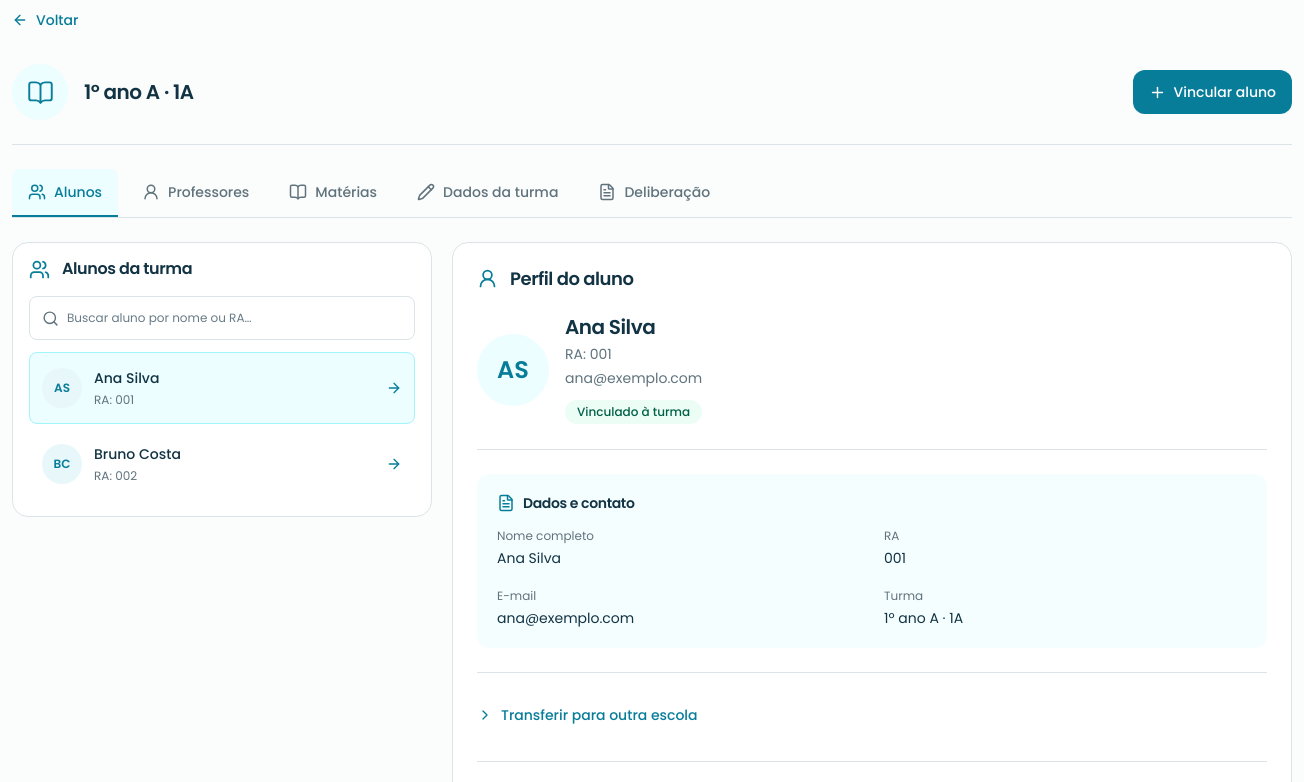
Test case: seleciona alunos, busca por RA e mantém professores e matérias em áreas próprias
The width and height of the screenshot is (1304, 782).
Click the button "BC Bruno Costa RA: 002" at (62, 464), box [29, 428, 415, 500]
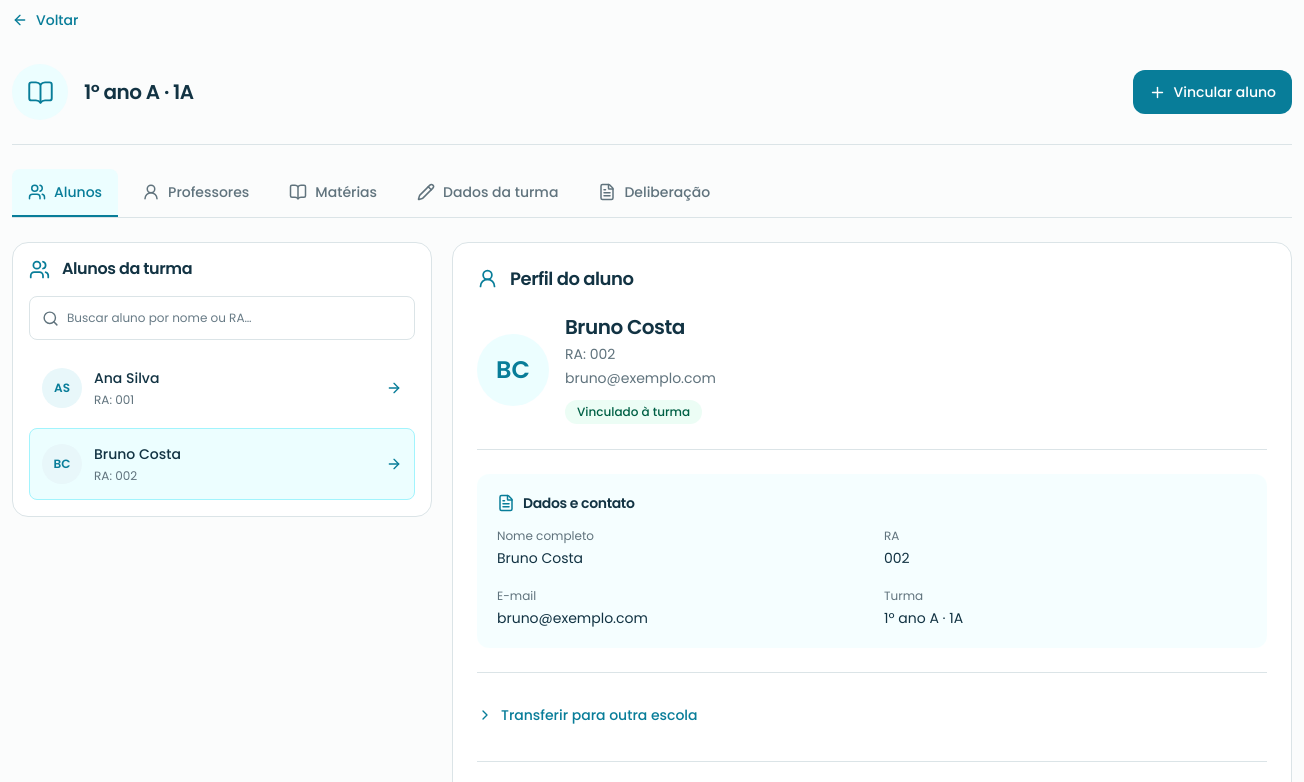
Type "001" into the search field at (234, 318), box [67, 310, 402, 326]
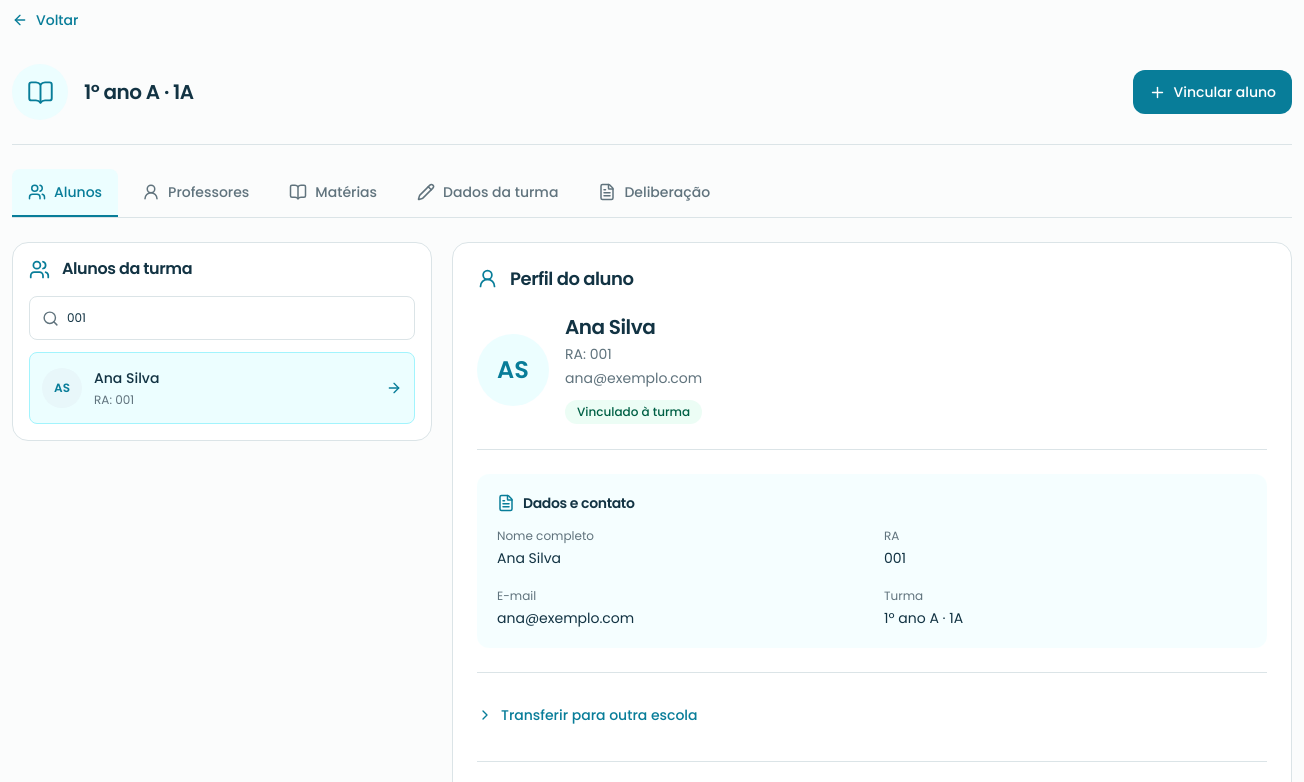
Click the button "Professores" at (196, 193), box [126, 169, 265, 217]
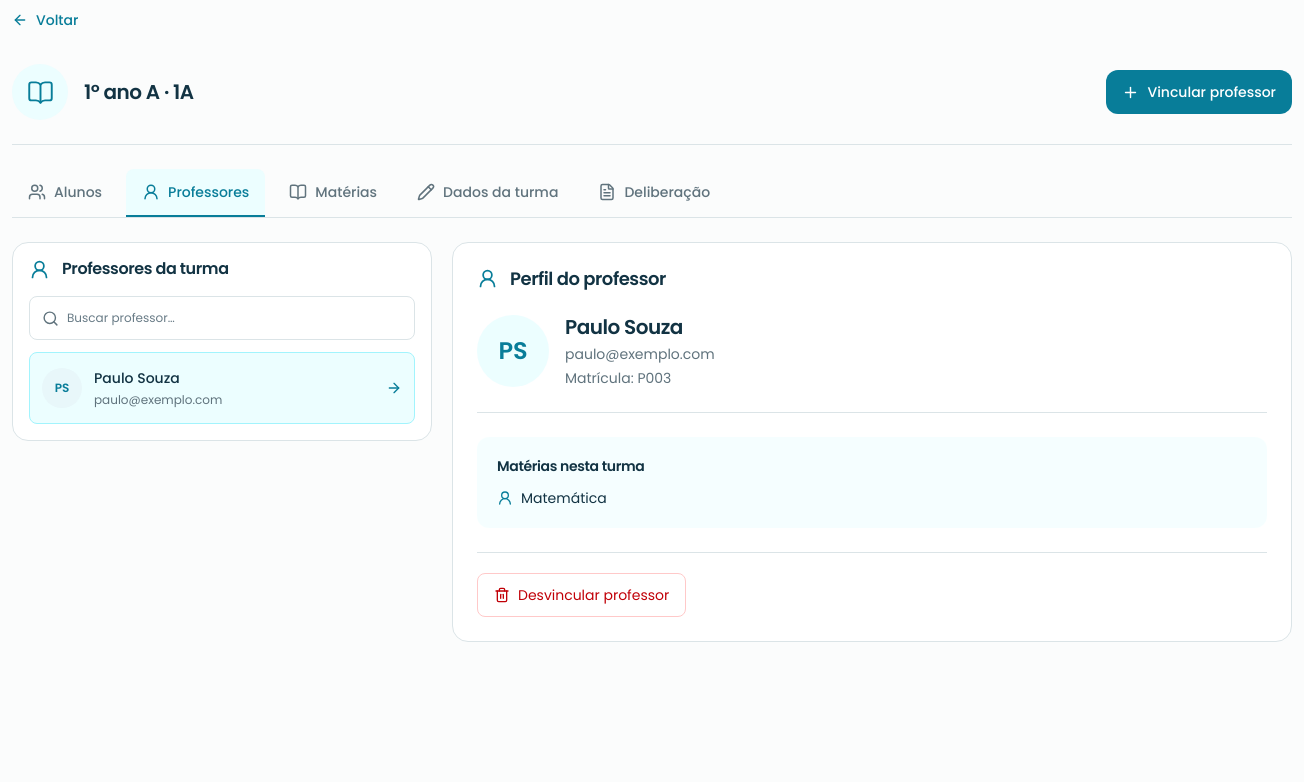
Expected: the element named "Perfil de Paulo Souza" is shown, [452, 242, 1292, 642]
Expected: the search field labelled "Buscar professor…" is shown, [67, 310, 402, 326]
Expected: the list item "Matemática" is shown, [497, 488, 607, 508]
Click the button "Matérias" at (333, 193), box [273, 169, 393, 217]
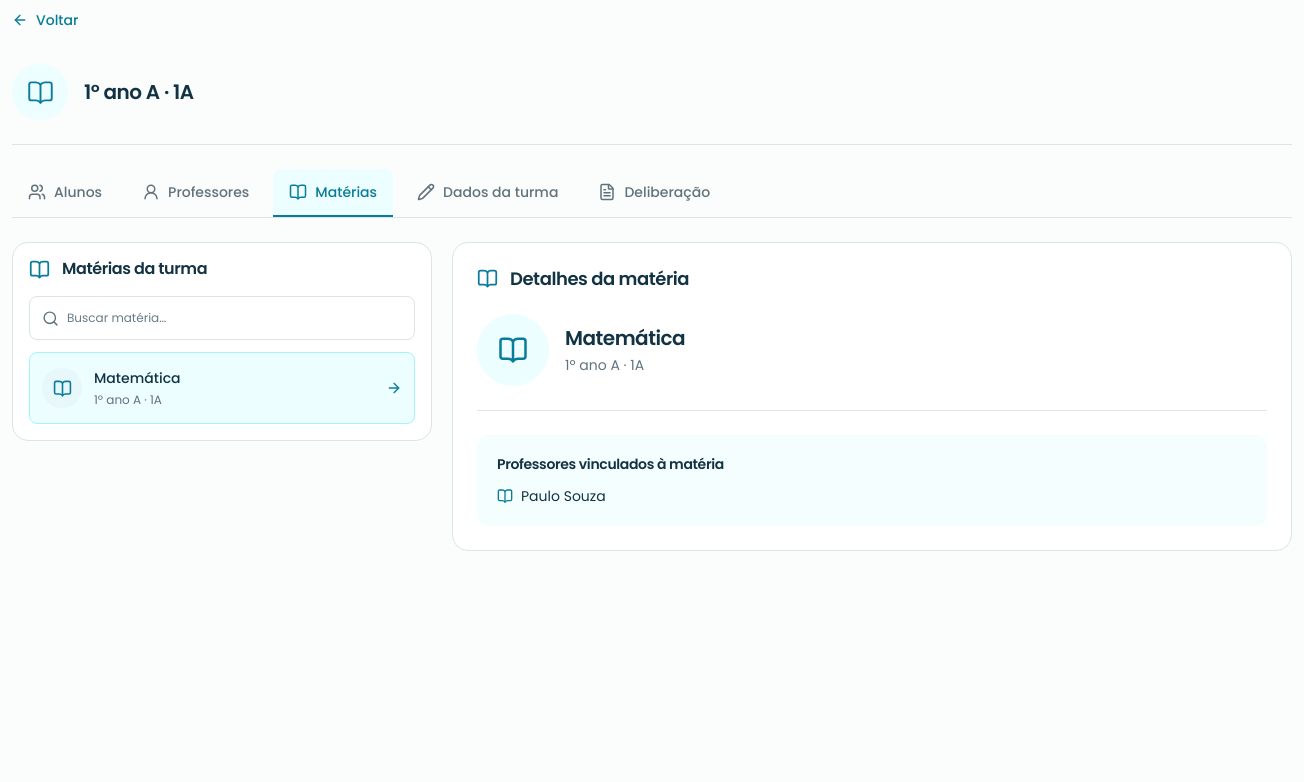
Expected: the element named "Detalhes de Matemática" is shown, [452, 242, 1292, 551]
Expected: the list item "Paulo Souza" is shown, [497, 486, 606, 506]
Click the button "Alunos" at (65, 193), box [12, 169, 118, 217]
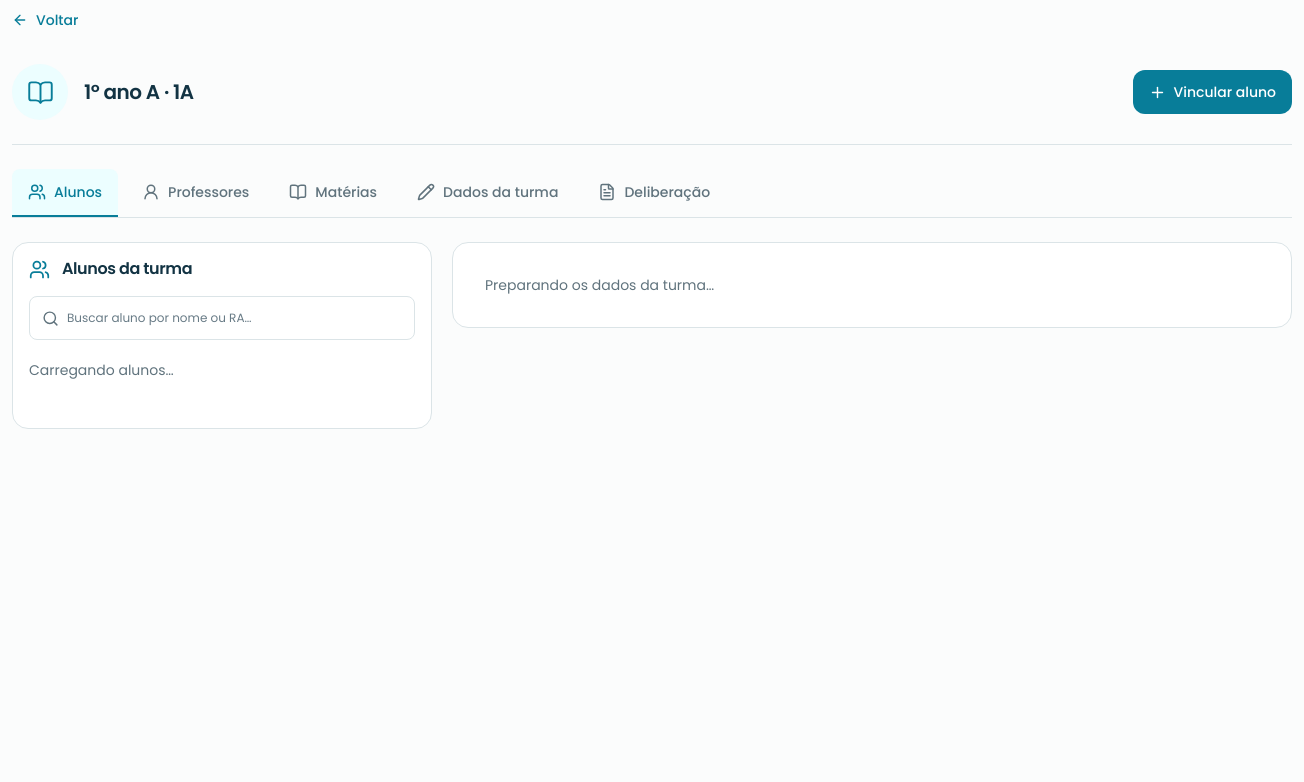
Click the button "Vincular aluno" at (1212, 92), box [1132, 70, 1292, 114]
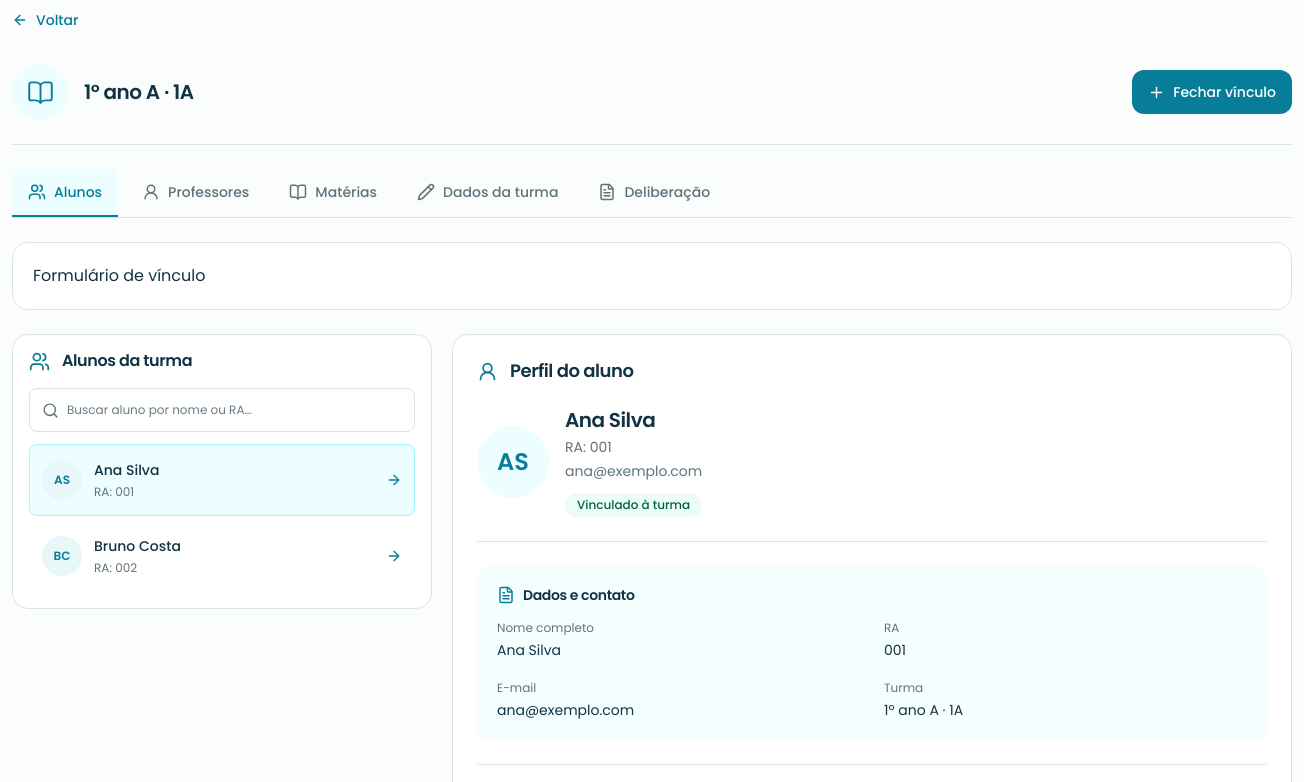
Expected: the text "Formulário de vínculo" is shown, [33, 264, 206, 287]
